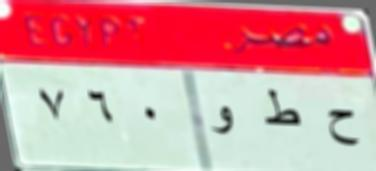0: (138, 105, 162, 128)
6: (83, 87, 118, 131)
7: (36, 85, 68, 129)
7aa: (324, 107, 360, 154)
Taa: (262, 88, 302, 137)
waw: (208, 103, 236, 138)
